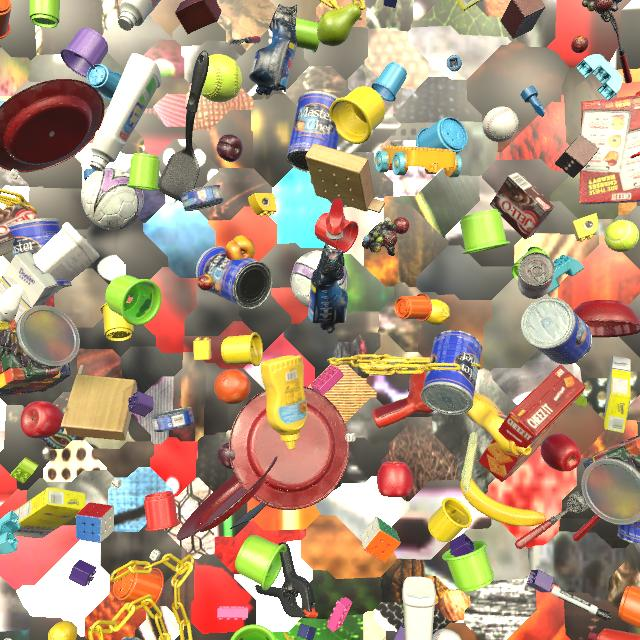ycb_002_master_chef_can: (421, 330, 482, 415), (196, 246, 273, 309), (521, 297, 592, 364), (7, 218, 72, 288), (286, 91, 339, 173), (617, 519, 640, 545)
ycb_003_cracker_box: (479, 364, 586, 482), (579, 95, 640, 205)
ycb_004_sugar_box: (0, 252, 58, 323), (12, 487, 86, 538), (604, 356, 631, 433), (456, 0, 483, 11)
ycb_005_tomato_soup_can: (518, 252, 555, 299)
ycb_006_mustard_bottle: (260, 355, 307, 450), (465, 393, 532, 455)
ycb_007_tuna_fish_can: (180, 185, 224, 211), (151, 407, 194, 432)
ycb_008_pudding_box: (490, 172, 555, 239), (0, 202, 38, 256)
ycb_010_potted_meat_can: (121, 636, 141, 640)
ycb_011_banana: (460, 464, 546, 527)
ycb_013_apple: (20, 401, 63, 439), (541, 433, 581, 472), (377, 461, 413, 497)
ycb_014_lemon: (425, 299, 450, 325), (48, 621, 77, 640)
ycb_015_peach: (225, 236, 255, 260)
ycb_016_pear: (317, 3, 362, 46)
ycb_017_orange: (214, 369, 251, 404)
ycb_018_plum: (216, 134, 243, 162), (217, 442, 235, 469)
